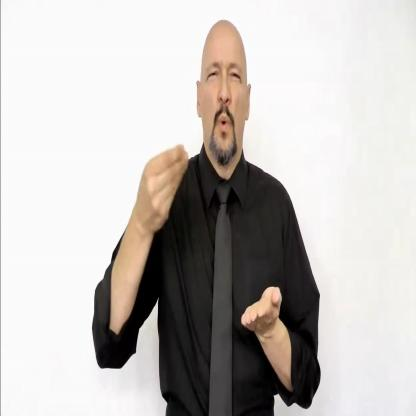Expensive: (140, 129, 284, 351)
